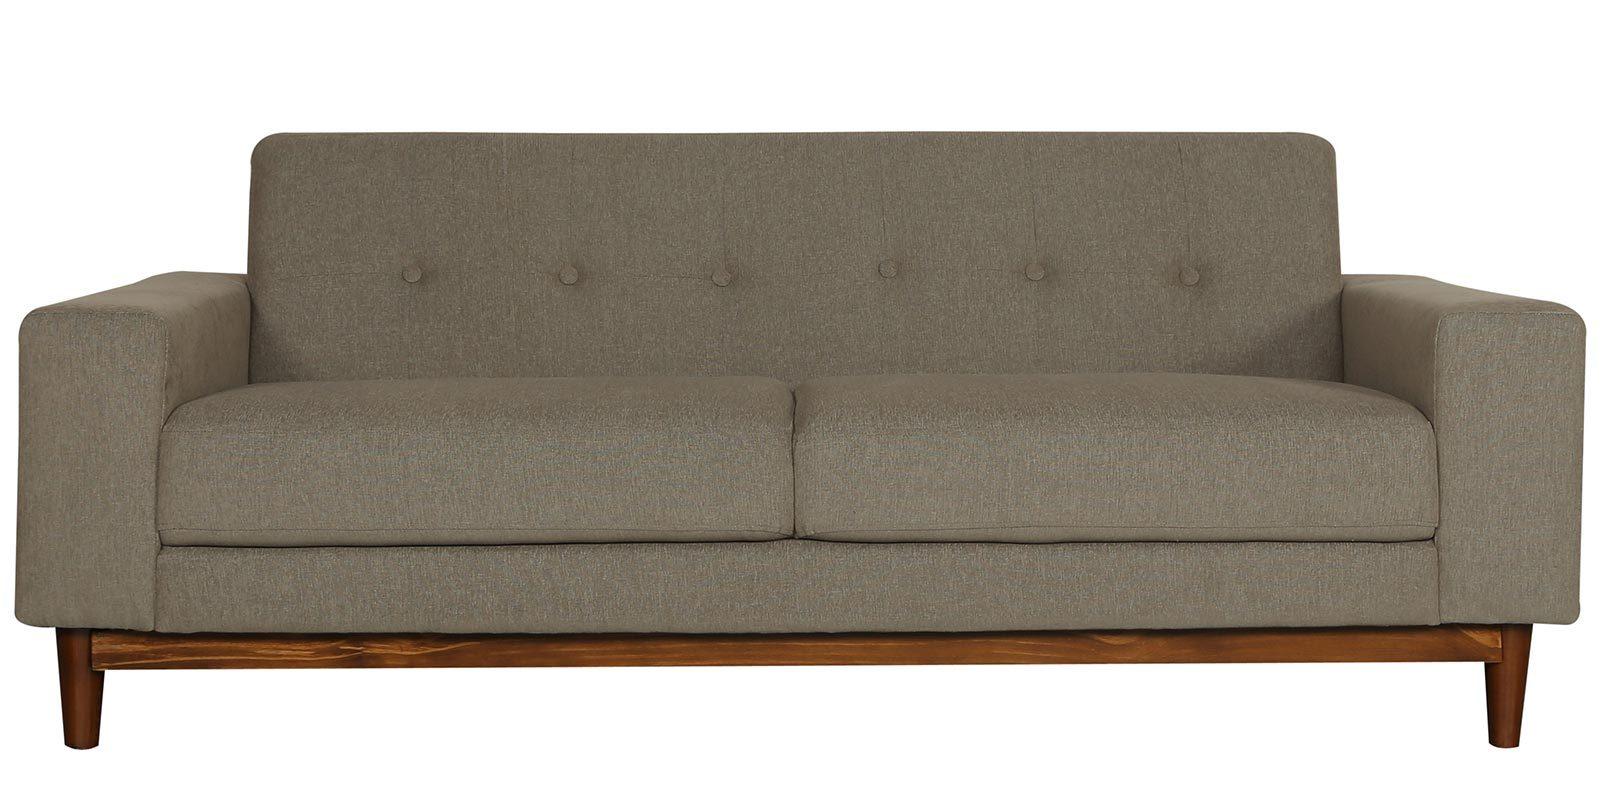Cordoba Three Seater Sofa in Sandy Brown Colour by CasaCraft: (14, 113, 1594, 743)
